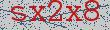2: (46, 1, 65, 26)
8: (84, 1, 99, 29)
s: (7, 2, 28, 23)
x: (28, 2, 48, 27), (65, 1, 84, 26)
